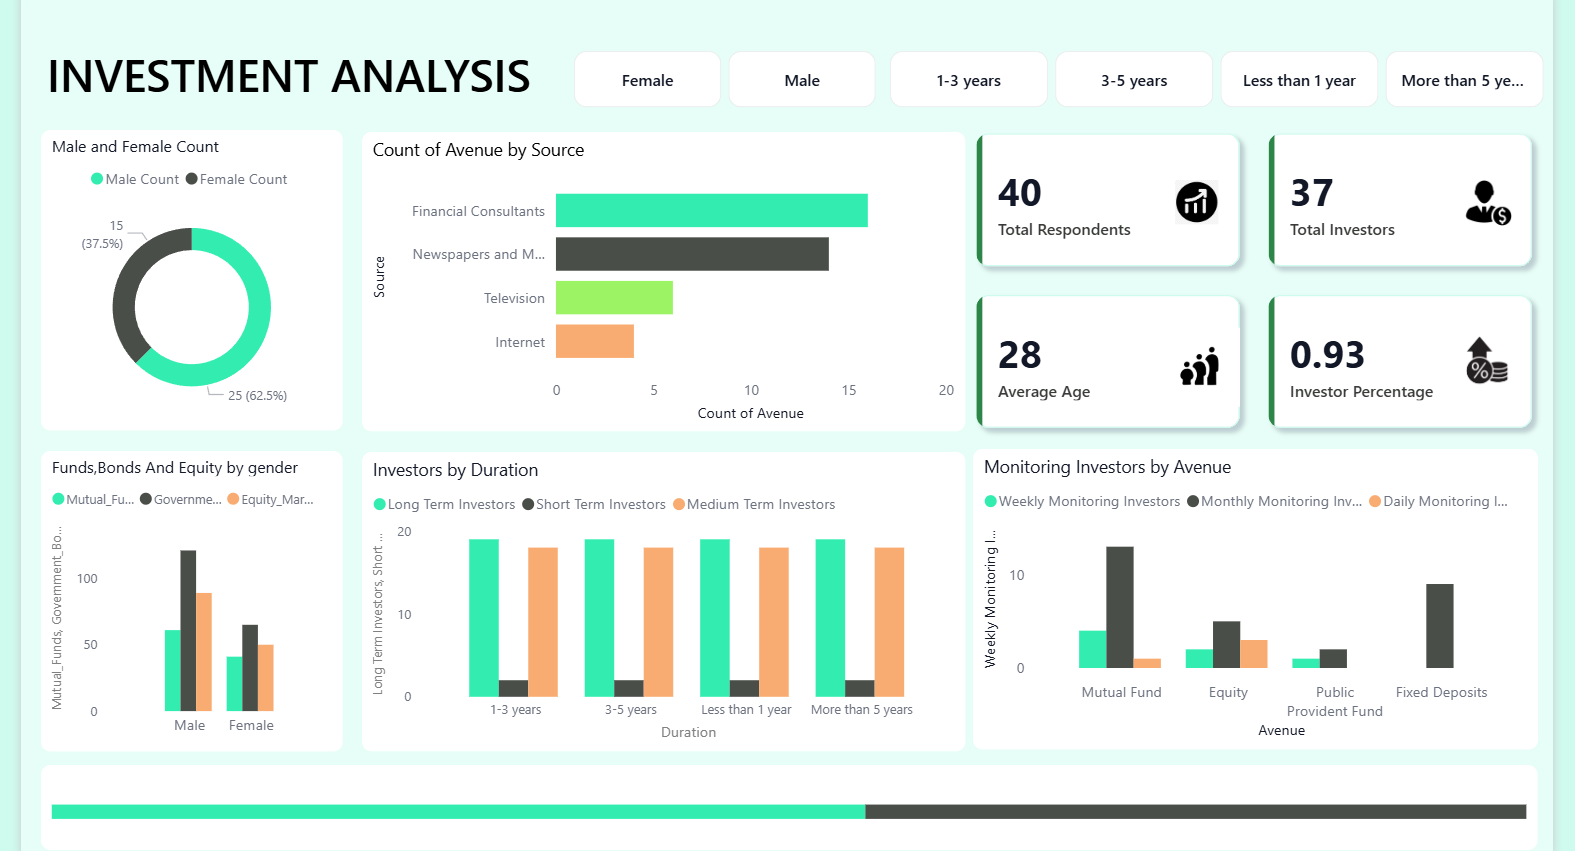

Layout of this report page (visuals, bound fields, positions):
{"tool":"powerbi","page":{"name":"Page 1","canvas":[1280,720],"ordinal":0},"visuals":[{"type":"cardVisual","fields":{"Data":["Top Measure.Total Respondents","Top Measure.Total Investors","Top Measure.Average Age","Top Measure.Investor Percentage"]},"box":[781,100.6,499,281.9],"z":0},{"type":"donutChart","title":"Male and Female Count","fields":{"Y":["Top Measure.Male Count","Top Measure.Female Count"]},"box":[16.9,114.7,251.9,250.9],"z":1000},{"type":"lineClusteredColumnComboChart","title":"Investors by Duration","fields":{"Category":["Top Measure.Duration"],"Y":["Top Measure.Long Term Investors","Top Measure.Short Term Investors","Top Measure.Medium Term Investors"]},"box":[284.6,383.3,503.6,250.5],"z":2000},{"type":"clusteredColumnChart","title":"Monitoring Investors by Avenue","fields":{"Y":["Top Measure.Weekly Monitoring Investors","Top Measure.Monthly Monitoring Investors","Top Measure.Daily Monitoring Investors"],"Category":["Top Measure.Avenue"]},"box":[795.1,380.6,471.8,250.9],"z":3000},{"type":"clusteredBarChart","fields":{"Category":["Top Measure.Source"],"Y":["CountNonNull(Top Measure.Avenue)"]},"box":[284.6,115.8,503.6,250.5],"z":4000},{"type":"lineClusteredColumnComboChart","title":"Funds,Bonds And Equity by gender","fields":{"Category":["Top Measure.gender"],"Y":["Sum(Top Measure.Mutual_Funds)","Sum(Top Measure.Government_Bonds)","Sum(Top Measure.Equity_Market)"]},"box":[16.9,382.5,251.9,250.9],"z":5000},{"type":"hundredPercentStackedBarChart","fields":{"Y":["Top Measure.Wealth Creation Objective Count","Top Measure.Capital Appreciation Objective Count"]},"box":[17.1,644.6,1249.7,70.9],"z":6000},{"type":"advancedSlicerVisual","fields":{"Values":["Top Measure.gender"]},"box":[457,43.1,263.9,57.5],"z":7000},{"type":"advancedSlicerVisual","fields":{"Values":["Top Measure.Duration"]},"box":[720.9,43.1,559.3,57.5],"z":8000},{"type":"textbox","box":[17.1,37.7,417.5,68.2],"z":9000},{"type":"image","box":[1184.1,155.3,82.6,39.5],"z":10000},{"type":"image","box":[963.3,140.9,37.7,67.3],"z":11000},{"type":"image","box":[1191.3,268.4,67.3,77.2],"z":12000},{"type":"image","box":[952.5,265.7,66.4,94.3],"z":13000}]}

Visuals, with their boxes on the page's 1280x720 design canvas (x1, y1, x2, y2). These are canvas units, not pixel positions in the 1575x851 screenshot, which may show the page scaled, cropped or inside an application window:
cardVisual - Top Measure.Total Respondents x Top Measure.Total Investors: 781, 101, 1280, 382
"Male and Female Count" donutChart: 17, 115, 269, 366
"Investors by Duration" lineClusteredColumnComboChart: 285, 383, 788, 634
"Monitoring Investors by Avenue" clusteredColumnChart: 795, 381, 1267, 632
clusteredBarChart - Top Measure.Source x CountNonNull(Top Measure.Avenue): 285, 116, 788, 366
"Funds,Bonds And Equity by gender" lineClusteredColumnComboChart: 17, 382, 269, 633
hundredPercentStackedBarChart - Top Measure.Wealth Creation Objective Count x Top Measure.Capital Appreciation Objective Count: 17, 645, 1267, 716
advancedSlicerVisual - Top Measure.gender: 457, 43, 721, 101
advancedSlicerVisual - Top Measure.Duration: 721, 43, 1280, 101
textbox: 17, 38, 435, 106
image: 1184, 155, 1267, 195
image: 963, 141, 1001, 208
image: 1191, 268, 1259, 346
image: 952, 266, 1019, 360
